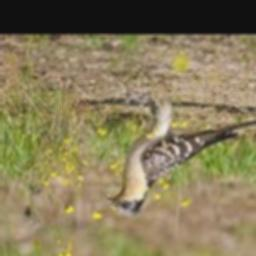Cuckoo: (105, 98, 256, 216)
